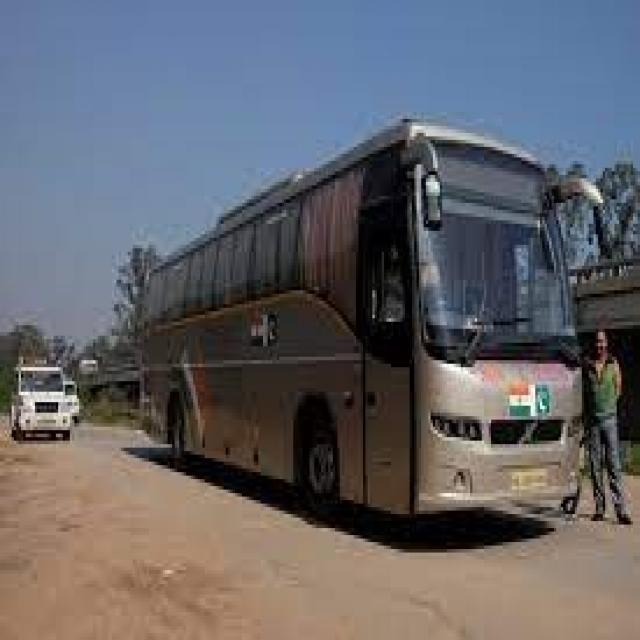bus: (111, 105, 618, 559)
